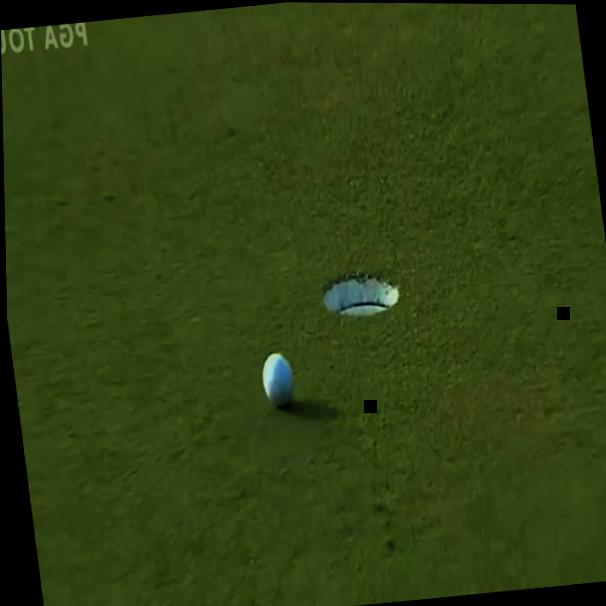GolfBall: (244, 332, 309, 421)
